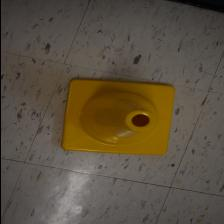cone: (59, 78, 175, 156)
